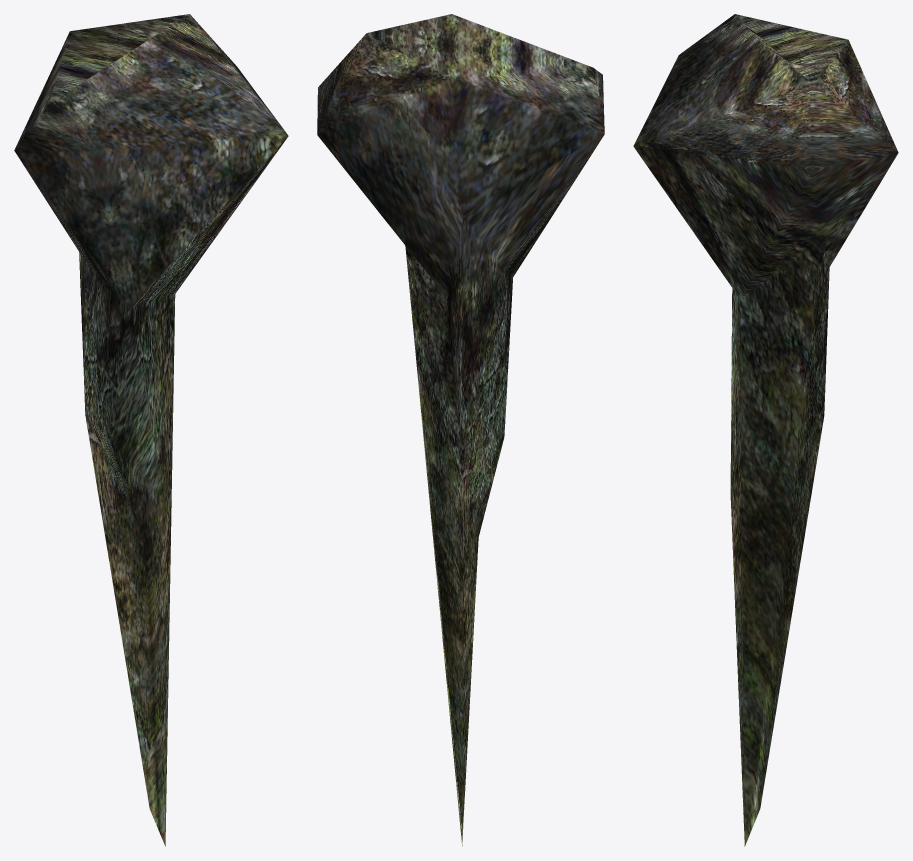
The model's file is thm_all_cave_stalagtite_damprock_b2_l1.fbx.
3 renders of one model, left to right at view 1: azimuth 30°, elevation 25°; view 2: azimuth 150°, elevation 25°; view 3: azimuth 270°, elevation 25°, orthographic. The views are drawn at different scales.
Visible parts, largest first — view 1: mesh_node; view 2: mesh_node; view 3: mesh_node.
Boxes of the visible parts, <box> form: mesh_node: <box>14,14,288,846</box>; mesh_node: <box>317,14,604,846</box>; mesh_node: <box>633,14,898,846</box>.
Bounding box in the file's own units: 1.23 × 3.81 × 1.14.
